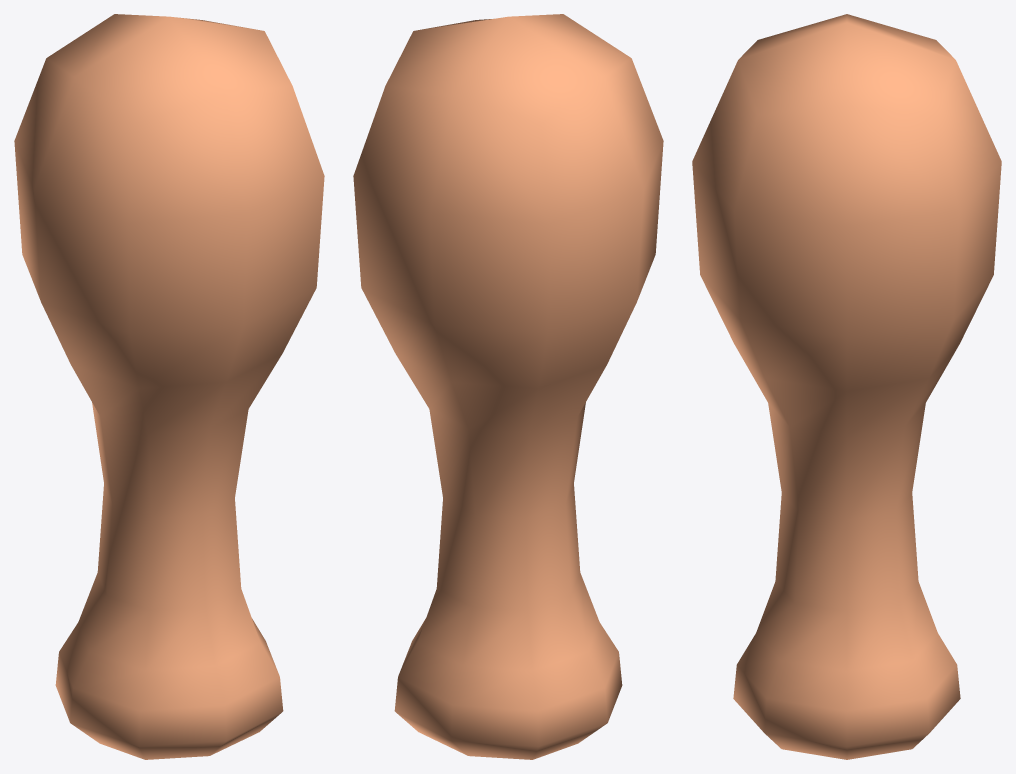
Rendered from Drumstick.glb.
3 views of the same model, side by side, from view 1: azimuth 30°, elevation 25°; view 2: azimuth 150°, elevation 25°; view 3: azimuth 270°, elevation 25° (orthographic).
Visible parts, largest first — view 1: Cube; view 2: Cube; view 3: Cube.
Boxes of the visible parts, x1=… form: Cube: x1=14, y1=14, x2=324, y2=759; Cube: x1=353, y1=14, x2=663, y2=759; Cube: x1=692, y1=14, x2=1001, y2=759.
Bounding box in the file's own units: 1.55 × 3.93 × 1.55.
1 material, 1 textured.
